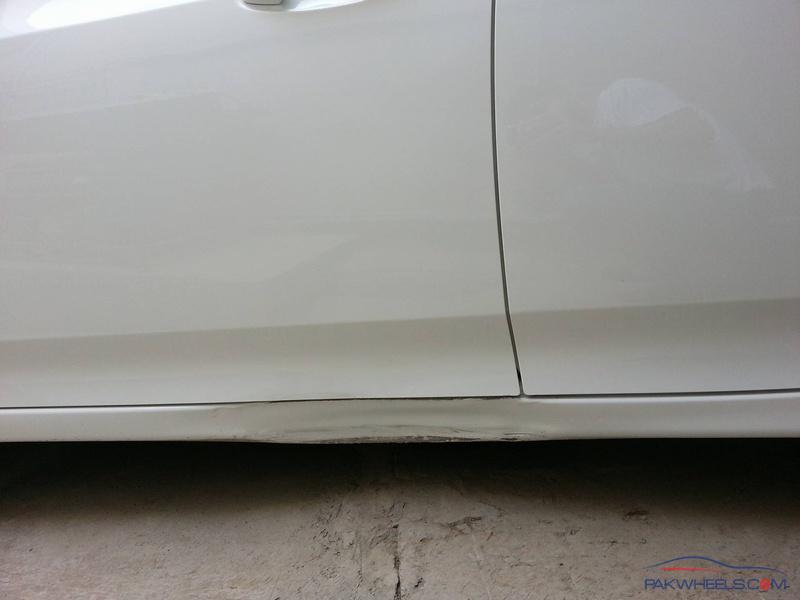RunningBoard-Dent: (128, 384, 608, 463)
